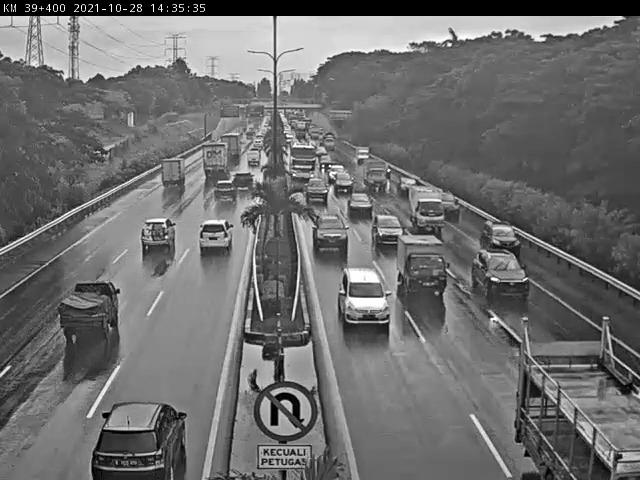big truck: (287, 140, 316, 176), (200, 143, 227, 178), (220, 133, 241, 160)
car: (89, 401, 190, 478), (58, 282, 123, 344), (394, 234, 450, 299), (341, 266, 395, 331), (472, 248, 528, 292), (196, 215, 238, 256), (140, 216, 177, 248), (314, 209, 346, 243), (485, 220, 519, 248), (373, 210, 400, 237), (211, 183, 236, 206), (348, 191, 372, 213), (302, 174, 327, 194), (232, 173, 252, 191), (436, 193, 452, 213), (244, 152, 261, 170), (331, 172, 348, 190), (354, 146, 370, 163), (400, 177, 417, 192), (325, 162, 340, 173), (252, 141, 264, 152)
small truck: (517, 337, 640, 480), (407, 183, 440, 225), (361, 159, 385, 189), (163, 160, 188, 188)
